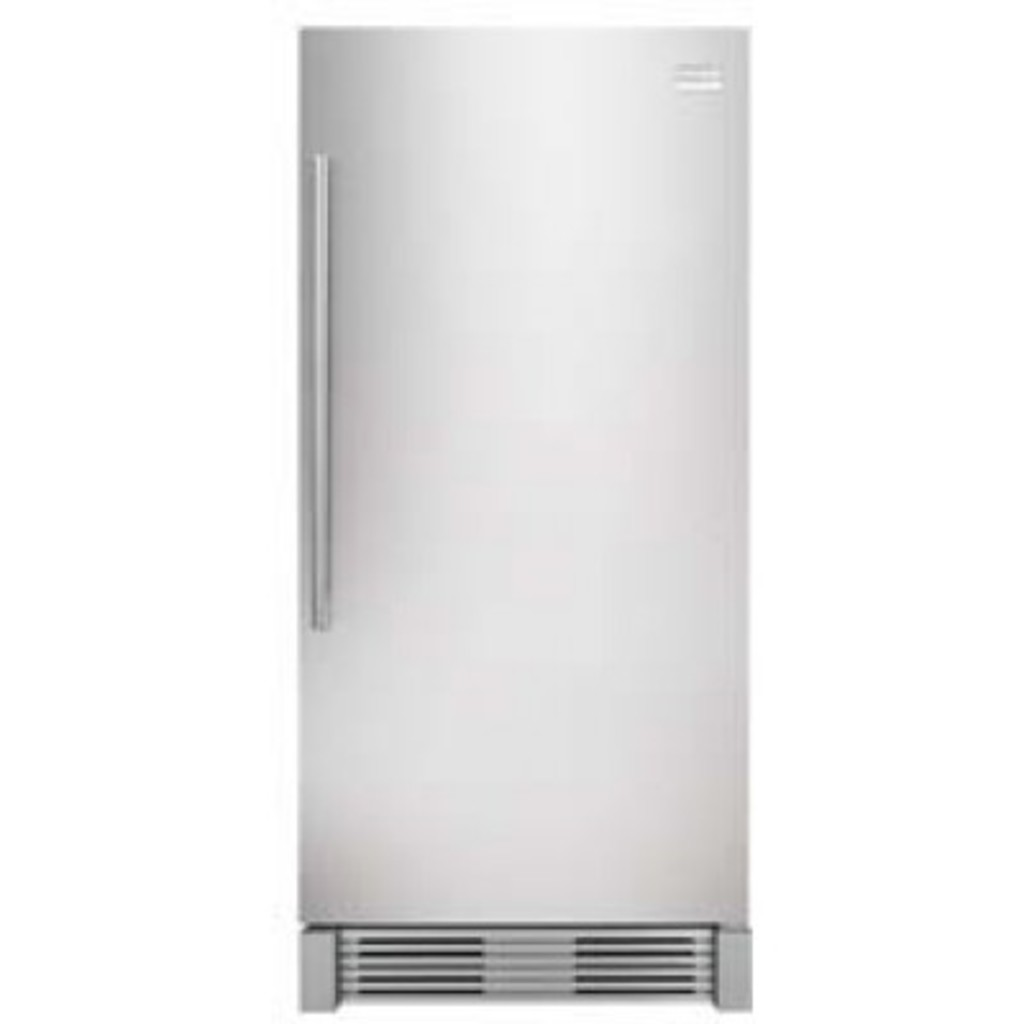handle: (307, 155, 350, 594)
refrigerator door: (302, 24, 746, 913)
